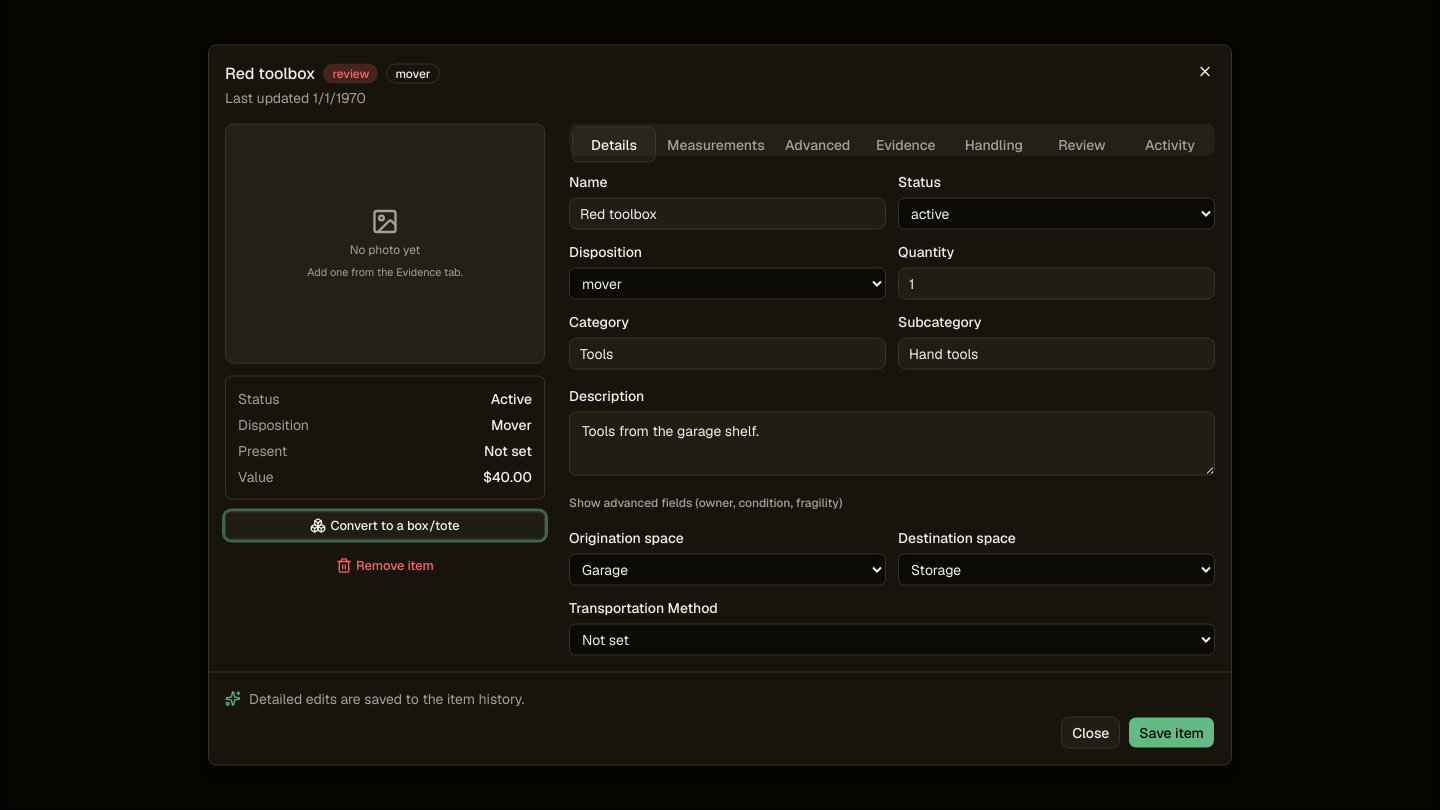
it: ItemDetailSheet task tabs › shows sell pricing + mark-sold for sell, and mark-trashed for dump
Select "sell" in the dropdown showing "mover": (728, 284) [569,268,886,300]
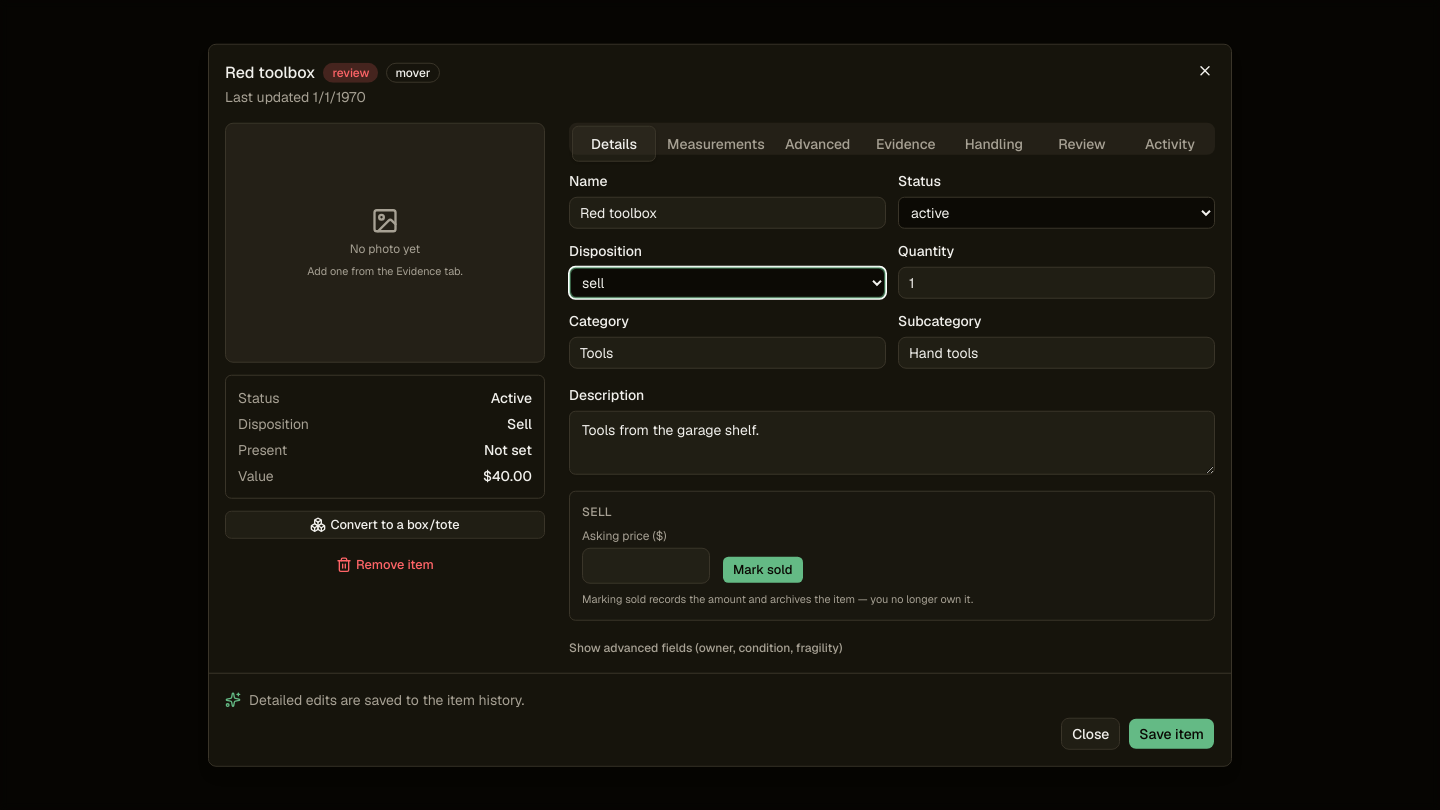
Check: the field named "Asking price in dollars" is shown, box [582,548,710,584]
Check: the button "Mark sold" is shown, box [722,556,804,584]
Select "dump" in the dropdown showing "mover": (728, 283) [569,267,886,299]
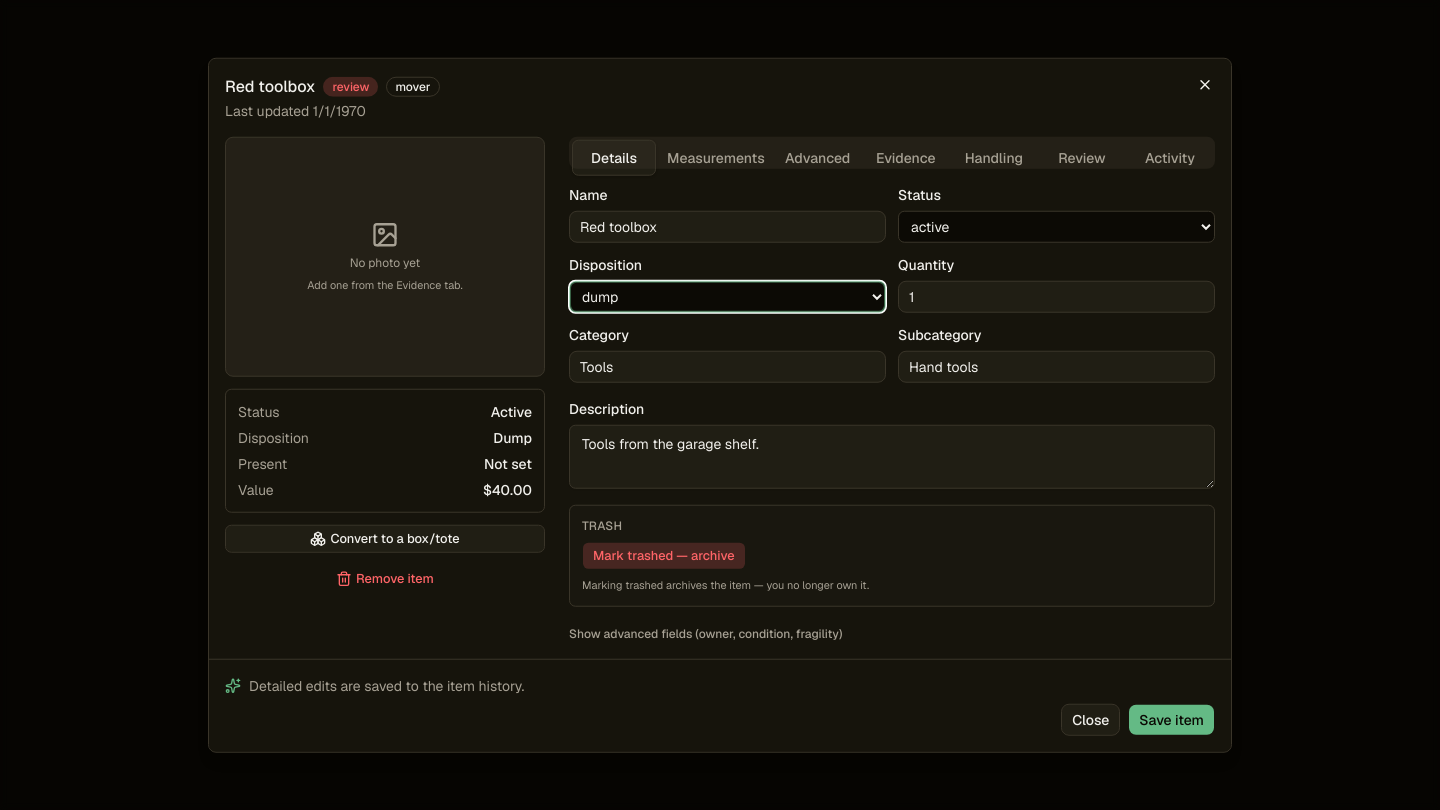
Check: the button "Mark trashed — archive" is shown, box [582,542,746,570]
Check: the button "Mark sold" is gone
